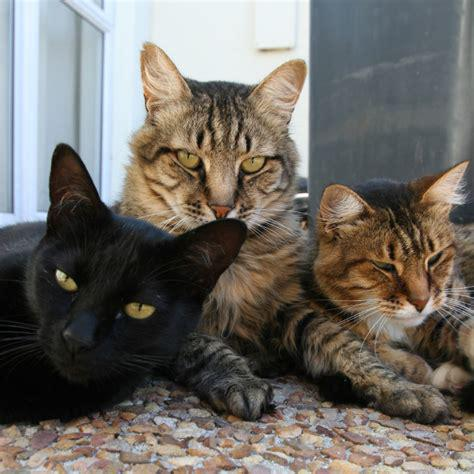cat: (122, 39, 458, 421), (1, 144, 246, 425), (316, 163, 474, 393)
